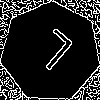L: (25, 27, 76, 80)
